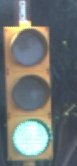Green: (3, 18, 54, 160)
